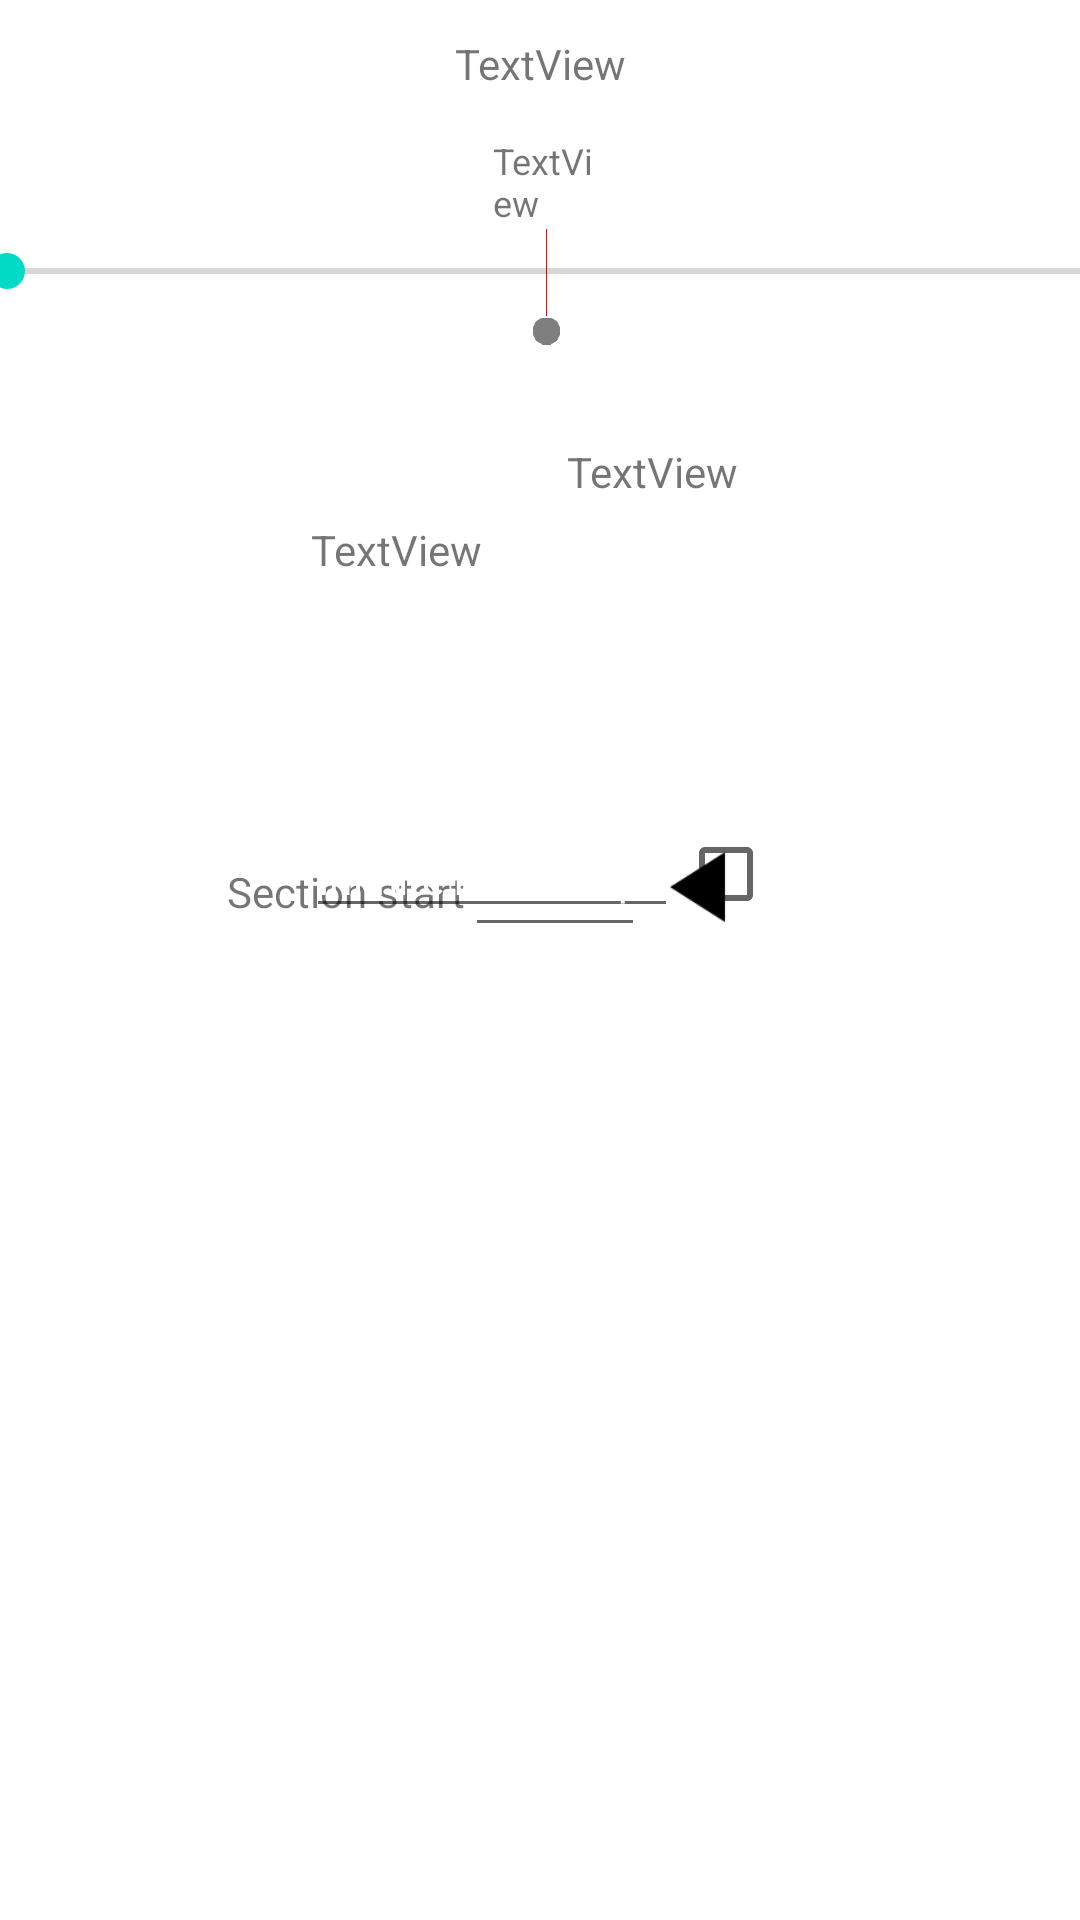

Where to tap for icons on this 1080 × 1920 app screen, as (x,y):
playarrow left: (711,884)
